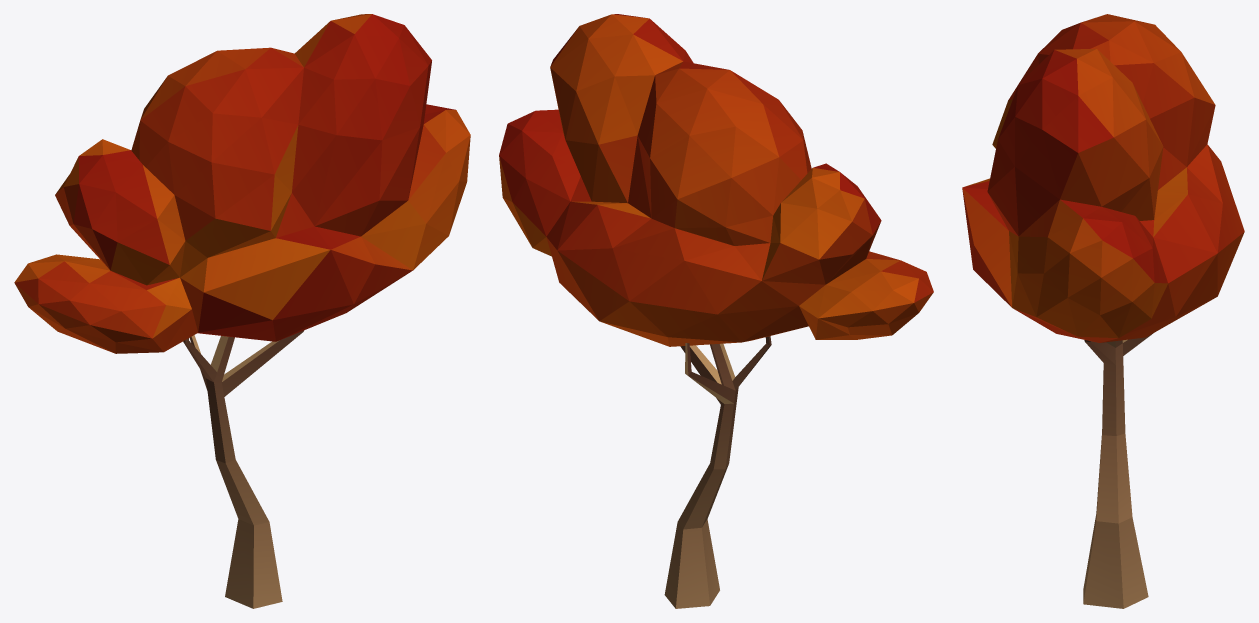
File: TreeRed.fbx
3 renders of one model, left to right at view 1: azimuth 30°, elevation 25°; view 2: azimuth 150°, elevation 25°; view 3: azimuth 270°, elevation 25°, orthographic. The views are drawn at different scales.
Visible parts, largest first — view 1: TreeRed_LOD0; view 2: TreeRed_LOD0; view 3: TreeRed_LOD0.
Part boxes in pixels (x1,y1,x2,y2): TreeRed_LOD0: (14, 14, 470, 608); TreeRed_LOD0: (499, 14, 933, 608); TreeRed_LOD0: (962, 14, 1244, 608).
Size of what is drawn, in the model's own units: 452 by 558 by 242.
